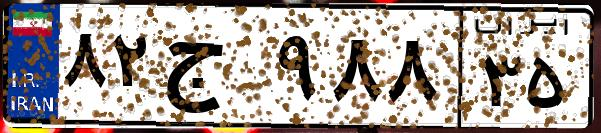2: (110, 28, 158, 98)
3: (475, 38, 525, 113)
5: (525, 38, 570, 115)
8: (385, 28, 445, 110), (330, 28, 385, 110), (57, 26, 110, 100)
9: (270, 28, 330, 110)
ج: (158, 20, 270, 120)
